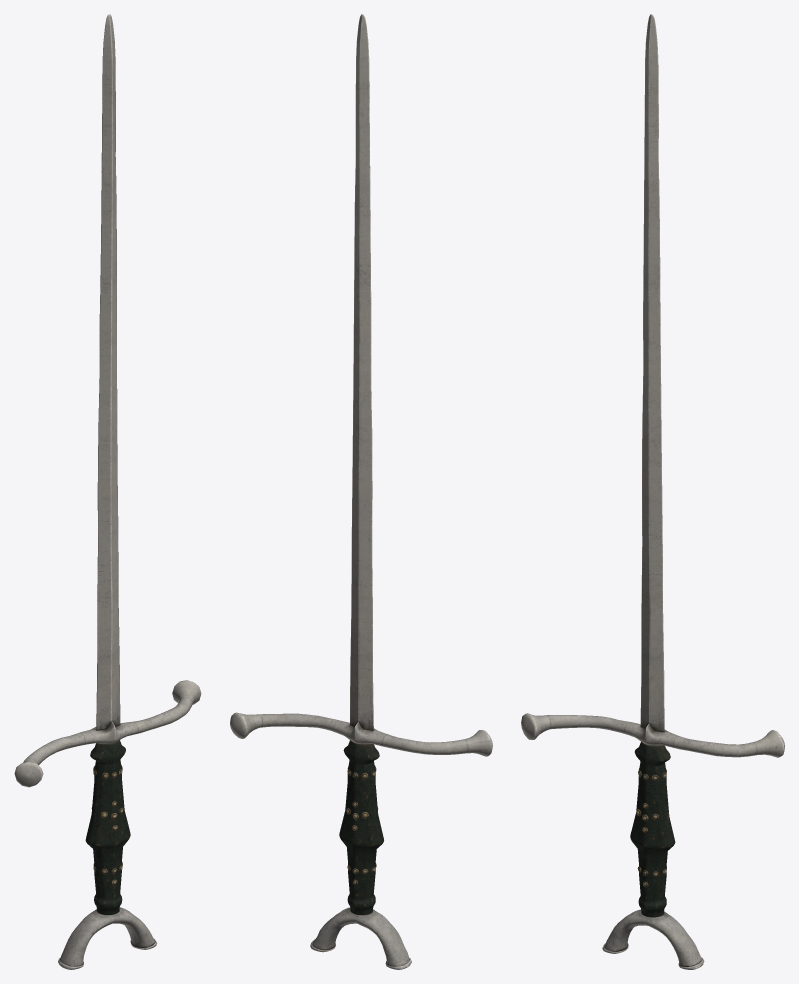
Rendered from antique_estoc.gltf.
3 renders of one model, left to right at view 1: azimuth 30°, elevation 25°; view 2: azimuth 150°, elevation 25°; view 3: azimuth 330°, elevation 25°, orthographic.
Parts seen in each view (by area): view 1: antique_estoc; view 2: antique_estoc; view 3: antique_estoc.
Boxes of the visible parts, bbox=[...] form: antique_estoc: bbox=[14, 14, 201, 969]; antique_estoc: bbox=[230, 14, 492, 969]; antique_estoc: bbox=[521, 14, 784, 969].
Size of the model in its own units: 0.3715 by 1.49 by 0.1491.
1 material, 1 textured.
